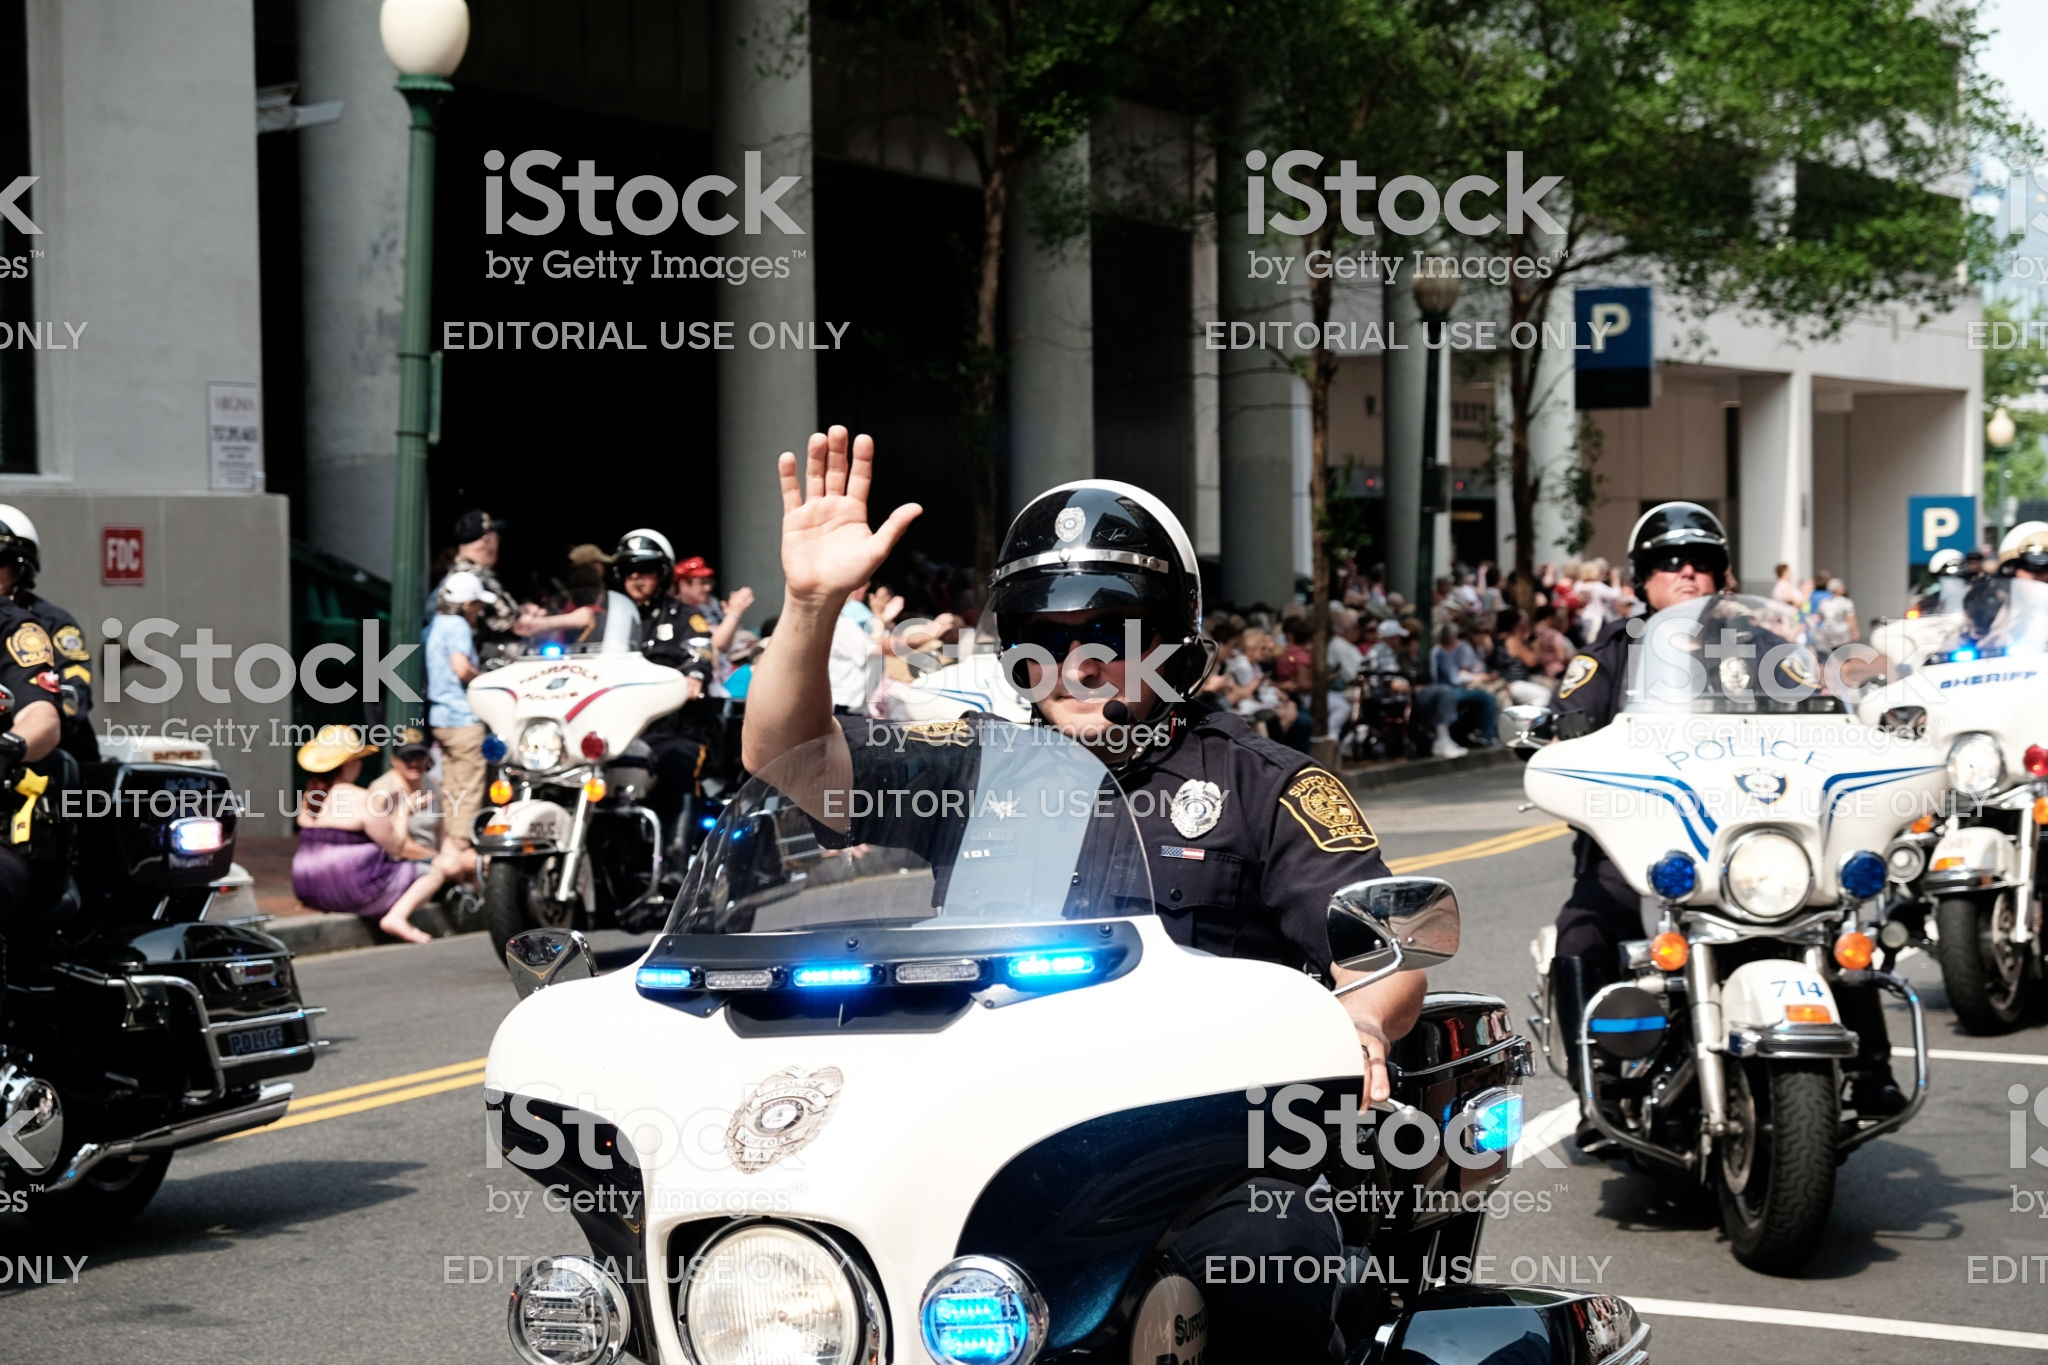helmet: (971, 469, 1221, 628), (1619, 491, 1731, 564)
